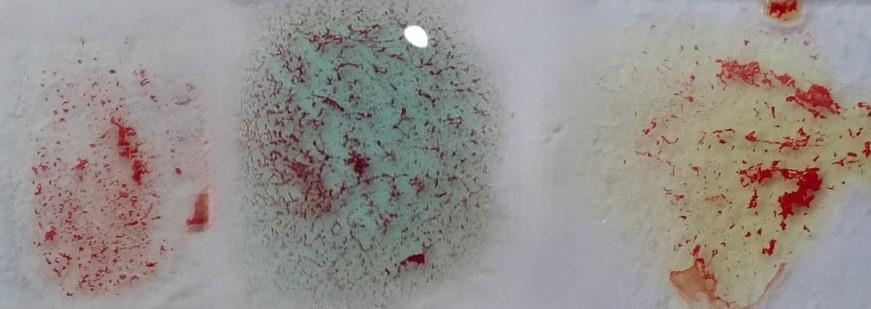A: (240, 12, 476, 297)
B: (645, 29, 848, 305)
D: (33, 54, 190, 292)
